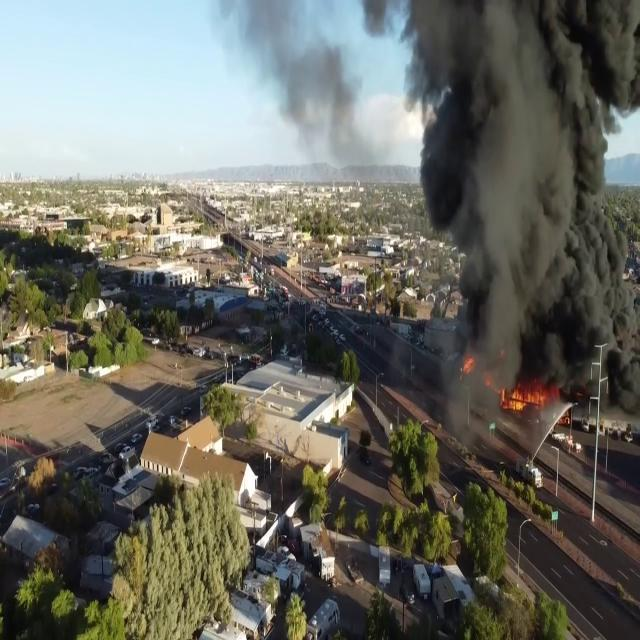Fire: (500, 376, 552, 414)
Smoke: (390, 0, 640, 419)
